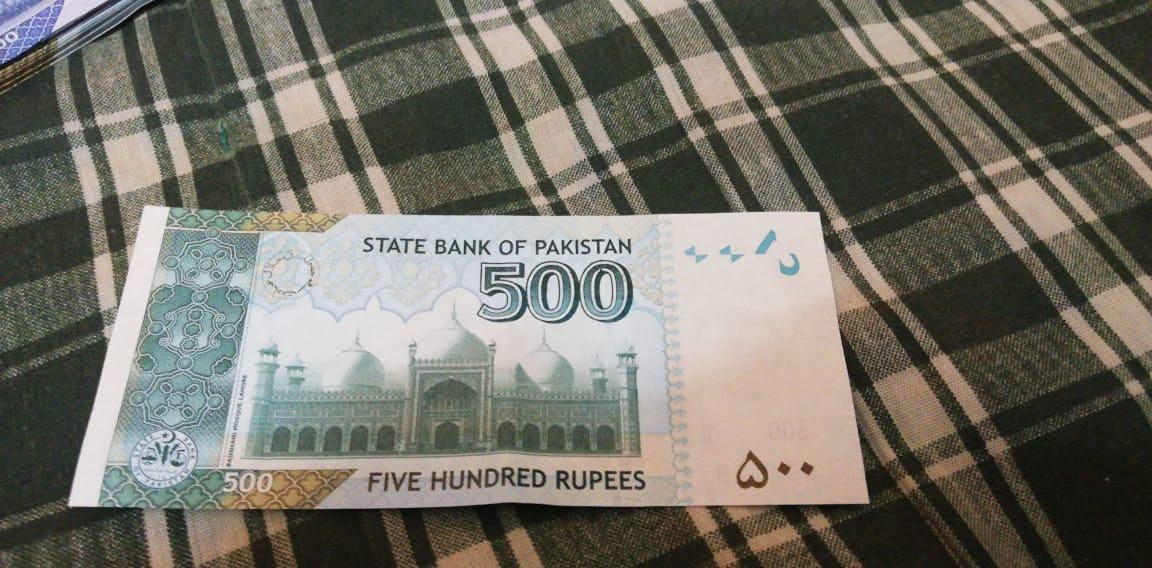500 rupee: (88, 165, 895, 508)
